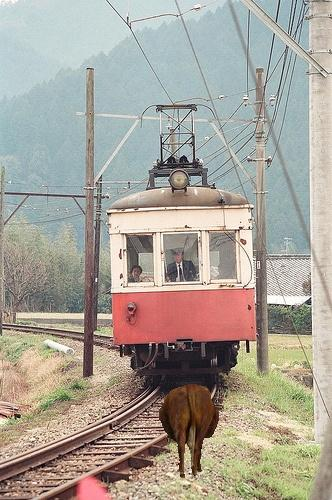tampered: (160, 385, 228, 478)
